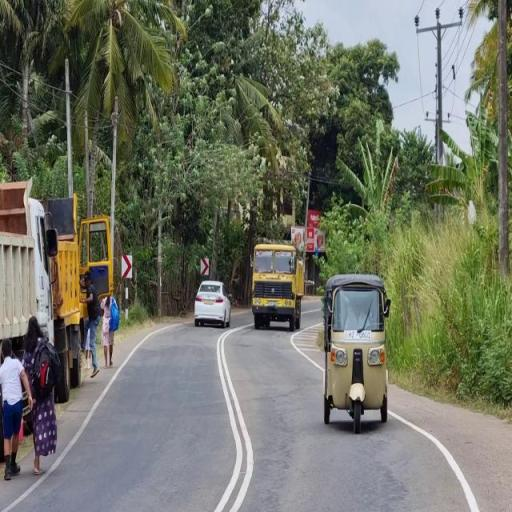double_white_line: (210, 326, 258, 512)
